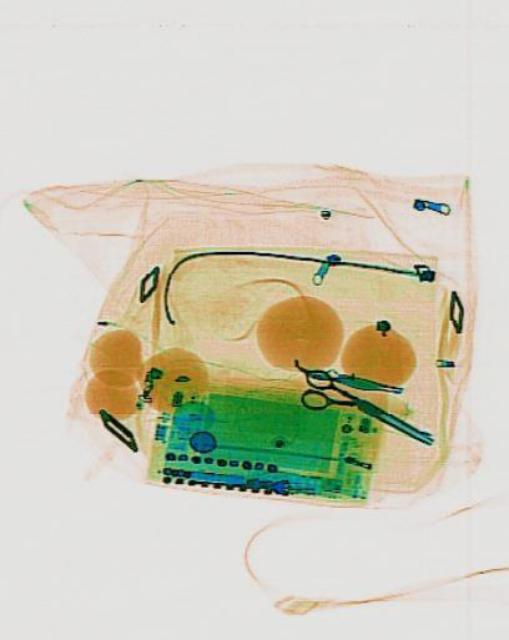Scissors: (294, 364, 437, 458)
